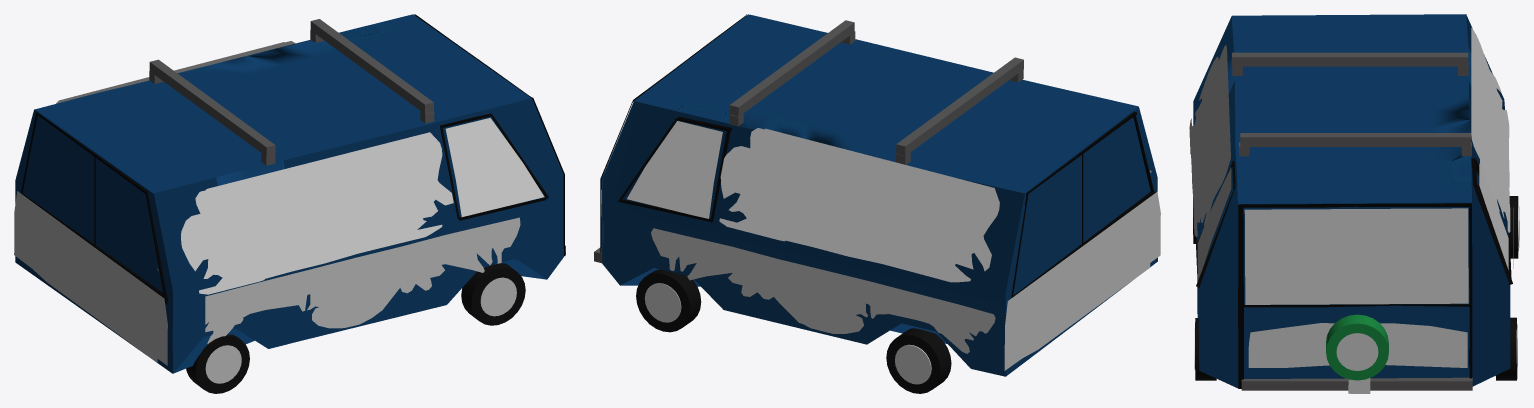
File: car.obj
3 renders of one model, left to right at view 1: azimuth 30°, elevation 25°; view 2: azimuth 150°, elevation 25°; view 3: azimuth 270°, elevation 25°, orthographic.
Parts seen in each view (by area): view 1: auto, fiancosuperiore1, fiancoinferiore2, retro, vetrosportello1, Box5, Box4, ruota, ruota3, cerchione1, cerchione2, fiancosuperiore2 (+2 smaller); view 2: auto, fiancosuperiore2, fiancoinferiore1, retro, vetrosportello2, Box5, Box4, ruota2, ruota1, cerchione4, cerchione3, linea1 (+1 smaller); view 3: auto, fronte1, targa, fiancosuperiore1, fiancosuperiore2, Box5, rifinitura_fronte, Box4, paraurti, ruota_di_scorta, ruota_di_scorta1, vetrosportello1 (+7 smaller).
Part boxes in pixels (x1,y1,x2,y2): auto: (15,14,563,373); fiancosuperiore1: (181,132,453,294); fiancoinferiore2: (205,217,520,343); retro: (14,191,167,365); vetrosportello1: (445,118,544,216); Box5: (149,59,275,156); Box4: (310,19,433,113); ruota: (461,263,525,325); ruota3: (186,334,249,393); cerchione1: (480,277,516,316); cerchione2: (205,345,241,383); fiancosuperiore2: (56,41,295,103); auto: (601,14,1157,376); fiancosuperiore2: (719,128,999,282); fiancoinferiore1: (651,228,995,353); retro: (1004,170,1160,370); vetrosportello2: (627,121,722,218); Box5: (896,57,1023,155); Box4: (729,20,854,116); ruota2: (886,328,951,393); ruota1: (636,269,701,332); cerchione4: (895,344,931,384); cerchione3: (644,283,681,322); linea1: (1011,191,1155,297); auto: (1193,14,1510,388); fronte1: (1244,208,1468,304); targa: (1248,323,1467,367); fiancosuperiore1: (1189,45,1230,237); fiancosuperiore2: (1471,27,1510,232); Box5: (1232,52,1468,66); rifinitura_fronte: (1238,203,1472,388); Box4: (1240,133,1471,146); paraurti: (1241,377,1472,390); ruota_di_scorta: (1326,314,1388,380); ruota_di_scorta1: (1336,333,1378,370); vetrosportello1: (1197,167,1231,280).
Bounding box in the file's own units: 4.84 × 2.3 × 3.14.
